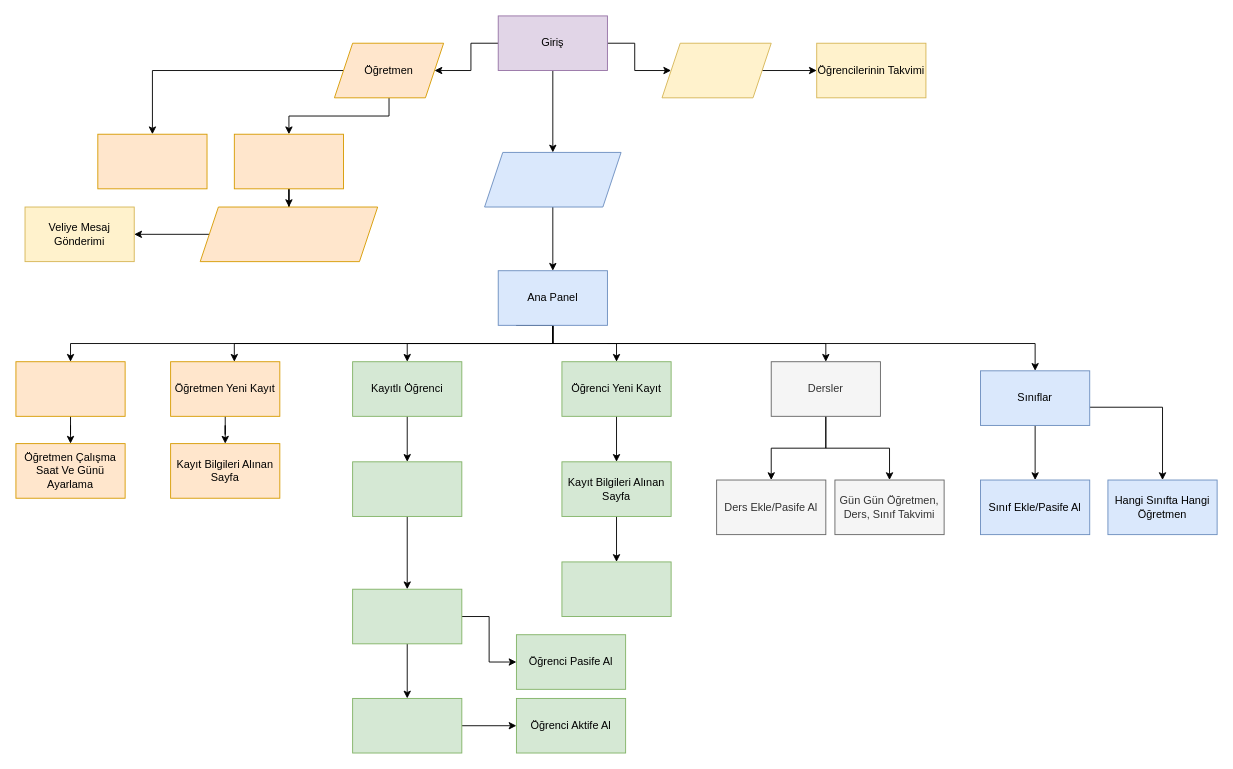
The diagram is 1233 pixels wide and 769 high, and some of its shapes have lost their labels. The shapes that lost their labels are listed below. From the top down, each one's centre as x and y in pixels, then its label:
the point at 716,70: Öğrenci Velisi
the point at 152,161: Kendi Takvimini Görme
the point at 288,161: Öğrenci Yoklaması
the point at 552,179: Music Art Yönetim
the point at 288,234: Öğrenci Son Ders Kontrolü
the point at 70,388: Öğretmenler
the point at 407,488: Kayıtlı Öğrenci Listesi
the point at 616,589: Öğrencinin Öğretmene Ataması
the point at 407,616: Aktif Öğrenciler
the point at 407,725: Pasif Öğrenciler
